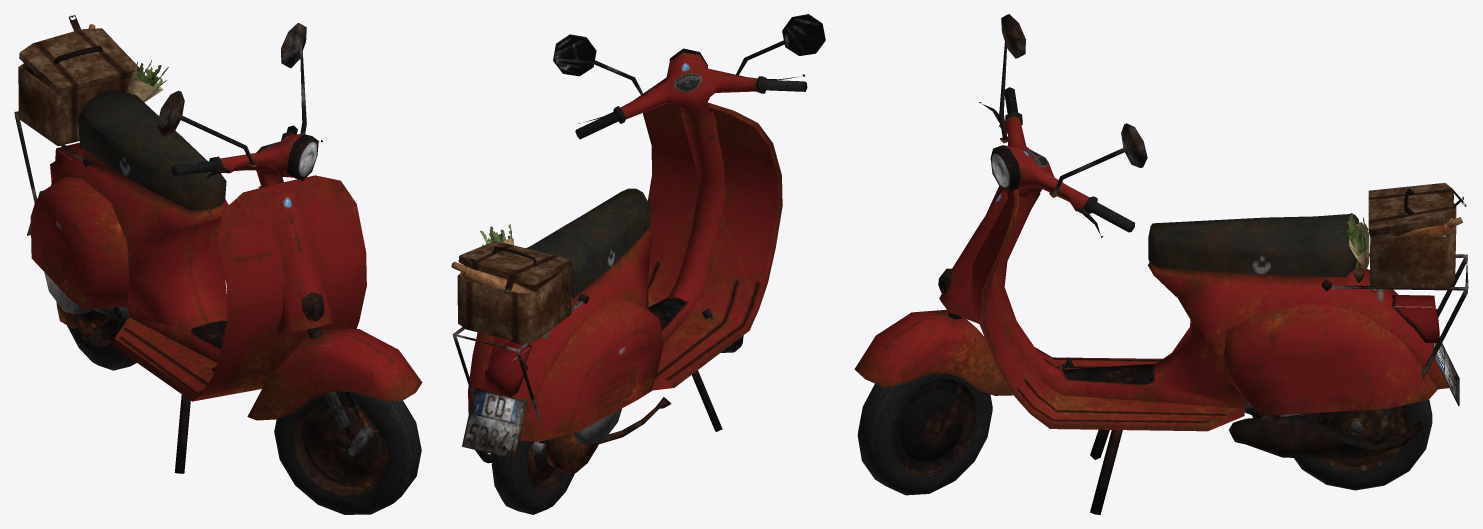
The model's file is scooter.glb.
3 views of the same model, side by side, from view 1: azimuth 30°, elevation 25°; view 2: azimuth 150°, elevation 25°; view 3: azimuth 270°, elevation 25° (orthographic). The views are drawn at different scales.
Parts seen in each view (by area): view 1: Object_4; view 2: Object_4; view 3: Object_4.
Boxes of the visible parts, x1,y1,x2,y2 form: Object_4: (14, 15, 422, 514); Object_4: (451, 14, 825, 514); Object_4: (854, 14, 1468, 514).
Size of the model in its own units: 0.8962 by 1.65 by 2.2.
Materials: 1 (1 with a texture image).
